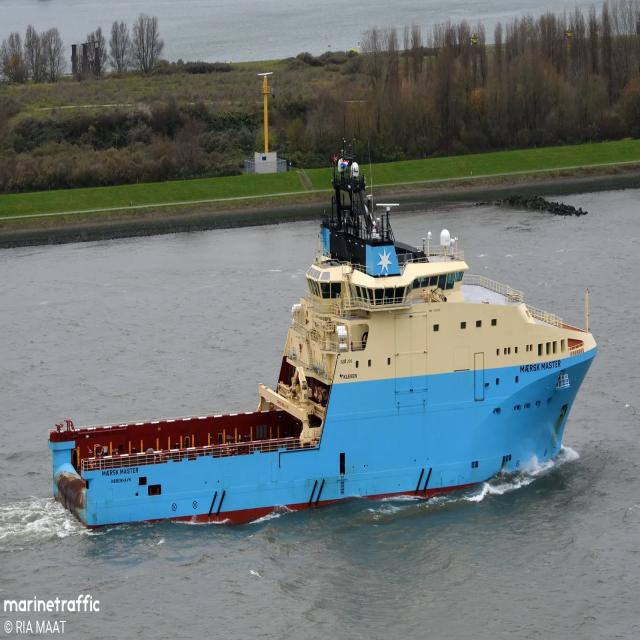Offshore: (49, 149, 597, 529), (238, 0, 540, 61), (7, 0, 174, 44)
